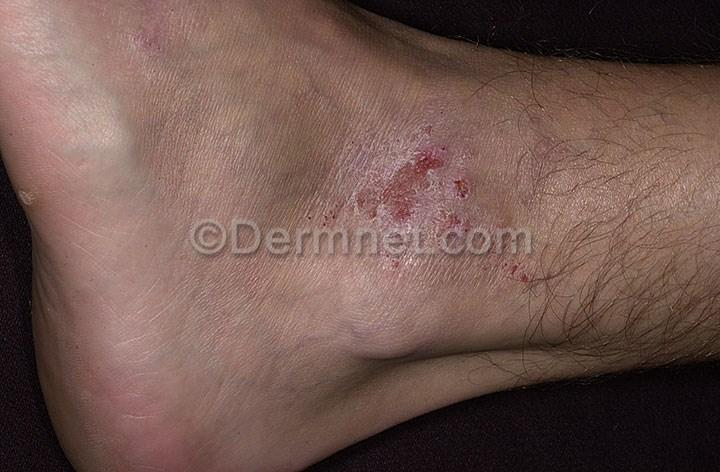Eczema: (303, 97, 507, 226), (495, 257, 545, 296), (384, 255, 414, 278)
